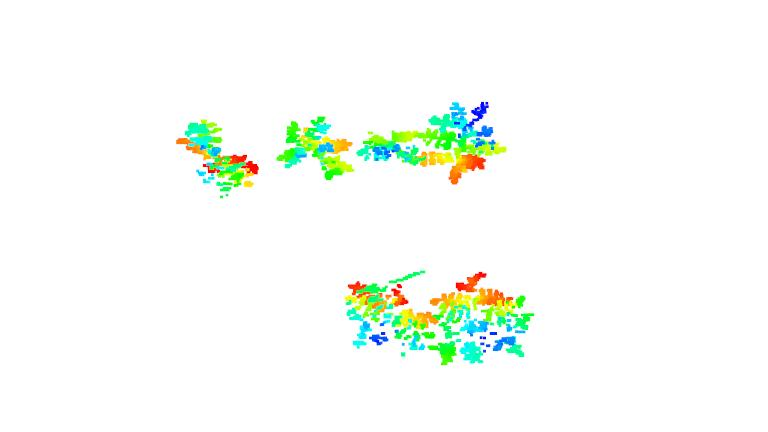chickpea: (437, 270, 535, 363), (418, 97, 508, 188), (171, 119, 258, 206), (335, 274, 407, 350), (277, 117, 356, 185), (358, 127, 425, 172), (400, 307, 437, 359)
